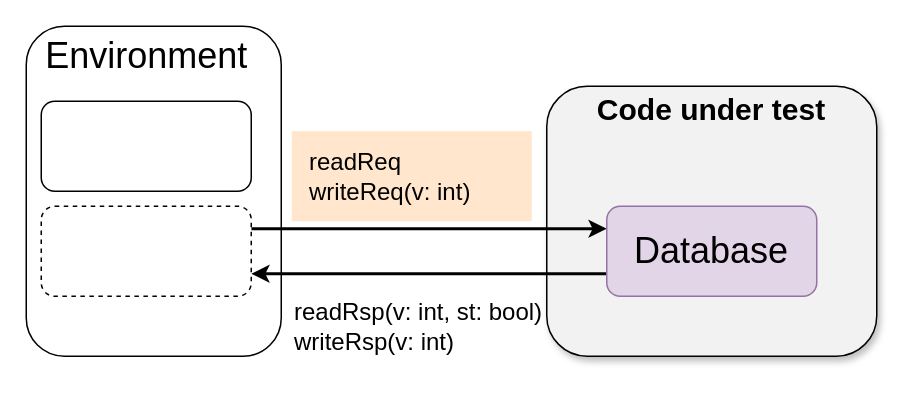
Some shapes in this 912 by 398 pixel diagram are drawn without their labels. Each missing label, with the centre of its shape:
Scheduler: point 145,145
User: point 145,250
